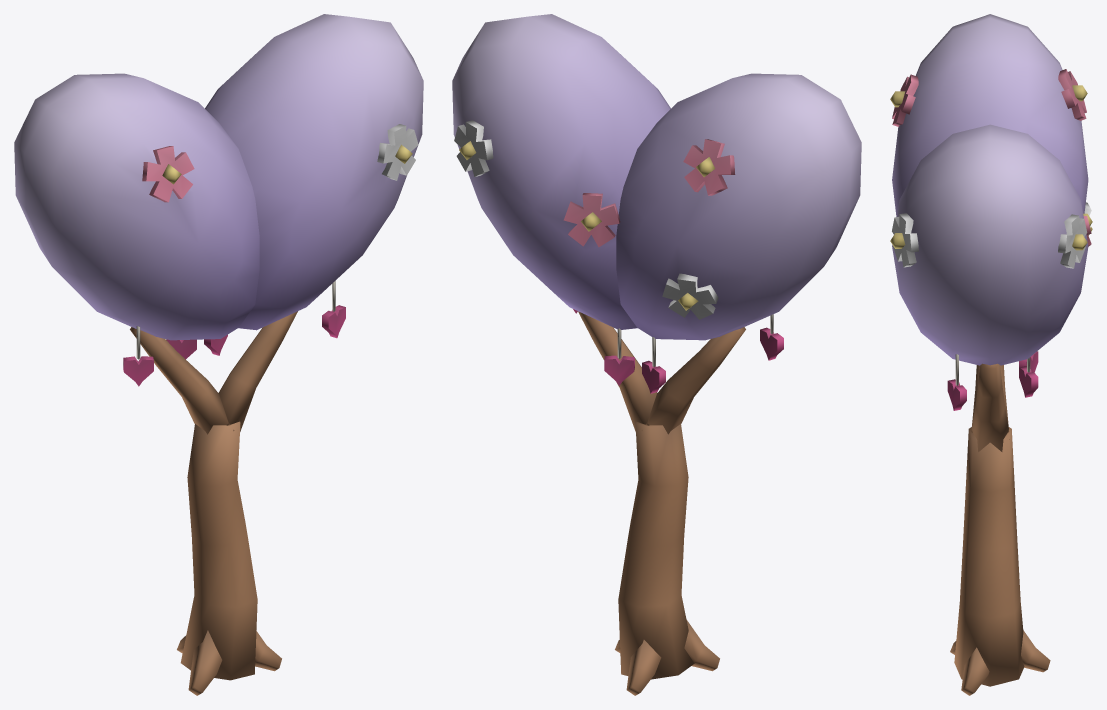
The model's file is tree-lilac.glb.
3 renders of one model, left to right at view 1: azimuth 30°, elevation 25°; view 2: azimuth 150°, elevation 25°; view 3: azimuth 270°, elevation 25°, orthographic. The views are drawn at different scales.
Parts seen in each view (by area): view 1: PROP_TREE_LILAC__body; view 2: PROP_TREE_LILAC__body; view 3: PROP_TREE_LILAC__body.
Boxes of the visible parts, x1,y1,x2,y2 form: PROP_TREE_LILAC__body: [14, 14, 423, 695]; PROP_TREE_LILAC__body: [452, 14, 861, 695]; PROP_TREE_LILAC__body: [890, 14, 1092, 695].
Size of the model in its own units: 1.3 by 2 by 0.6155.
